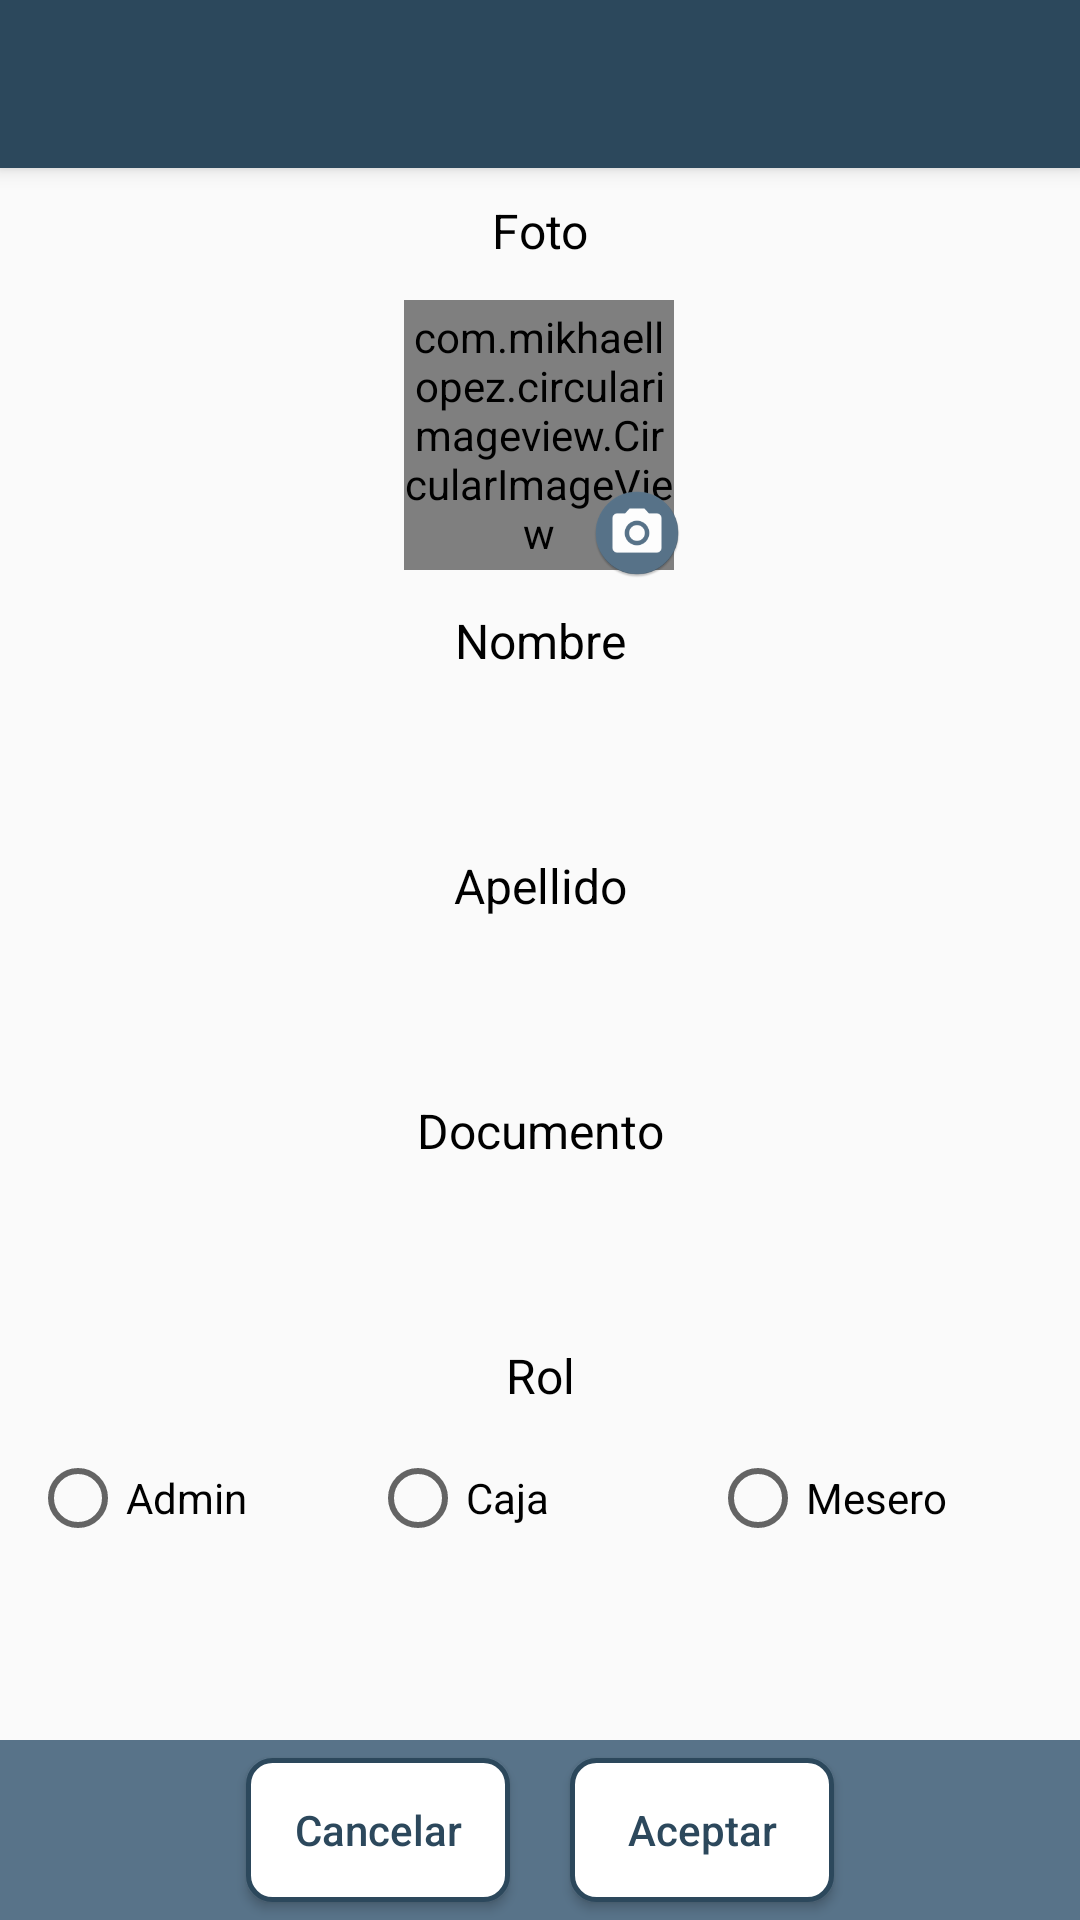

Point at icon controls on the screen. Image size 1080*1920, points as [x,y].
camera circle: [637,533]
